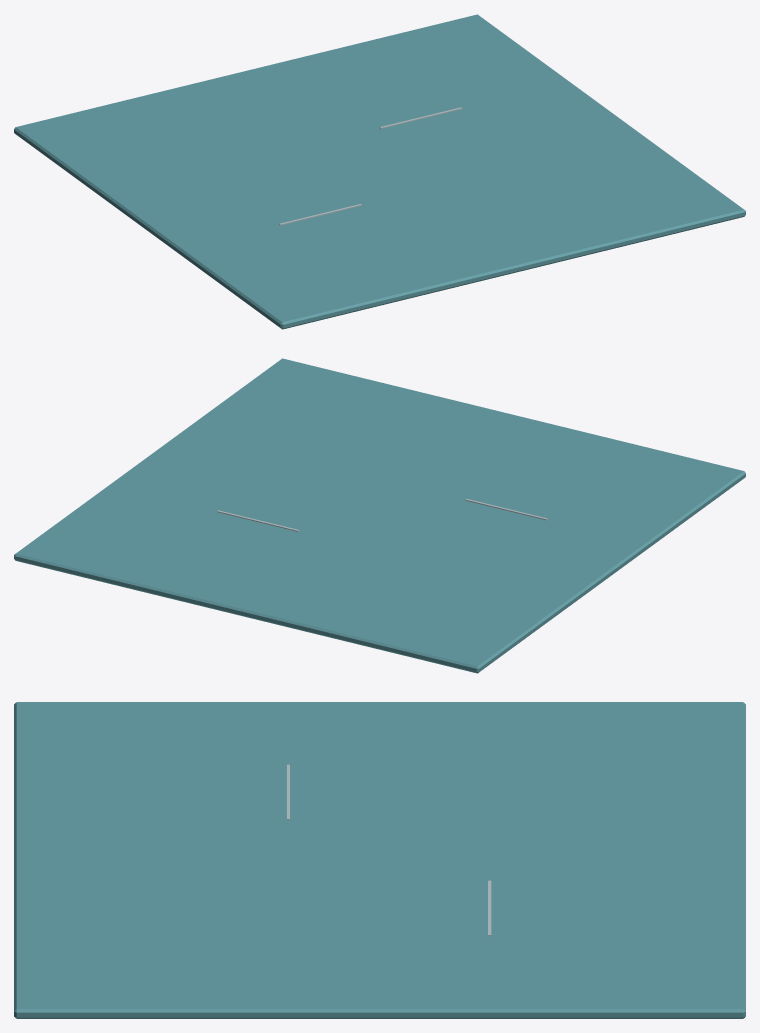
The model's file is water.glb.
3 views of the same model, one above another, from view 1: azimuth 30°, elevation 25°; view 2: azimuth 150°, elevation 25°; view 3: azimuth 270°, elevation 25° (orthographic). The views are drawn at different scales.
Parts seen in each view (by area): view 1: surface; view 2: surface; view 3: surface.
Part boxes in pixels (x1,y1,x2,y2): surface: [14, 14, 745, 329]; surface: [14, 358, 745, 673]; surface: [14, 702, 745, 1018].
Bounding box in the file's own units: 4 × 0.071 × 4.
